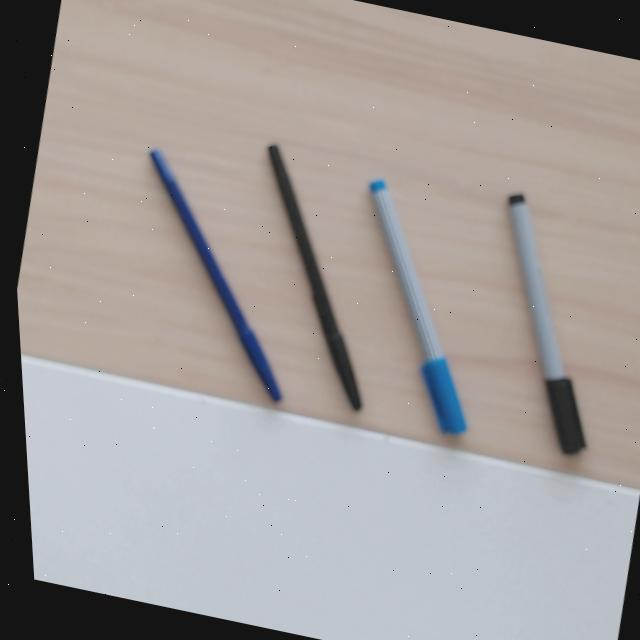Pulpen-Biru: (145, 147, 286, 405)
Pulpen-Garis-Biru: (357, 178, 469, 440)
Pulpen-Garis-Hitam: (501, 189, 589, 457)
Pulpen-Hitam: (260, 143, 366, 414)
